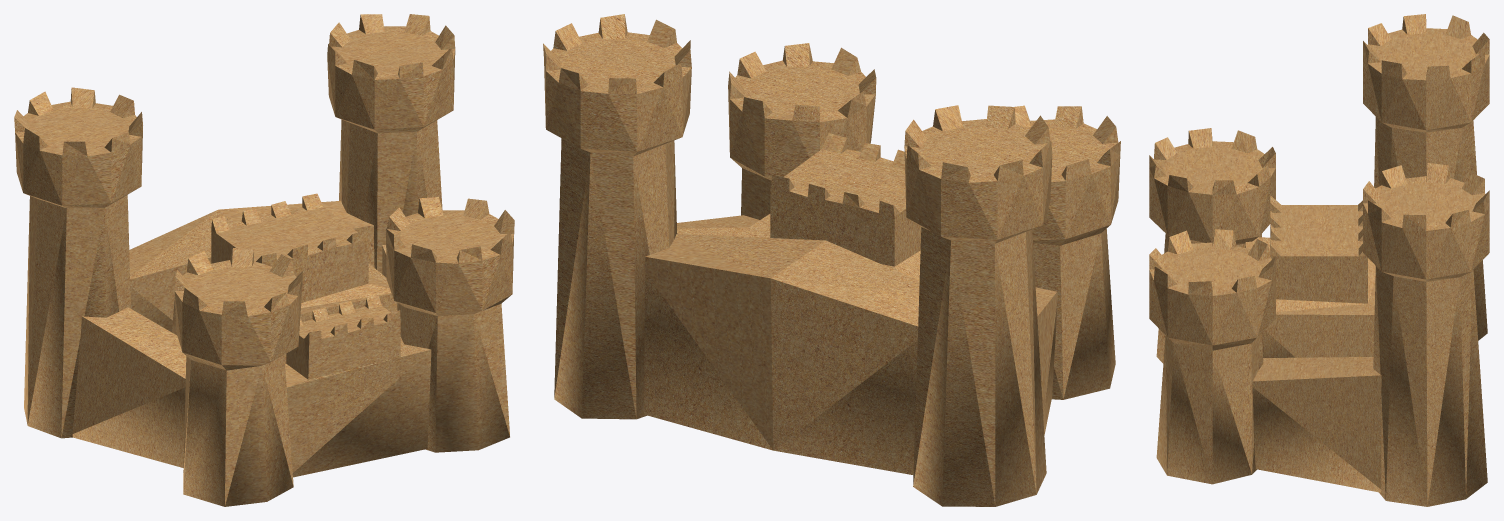
Rendered from Sand_Castle_Small.fbx.
3 renders of one model, left to right at view 1: azimuth 30°, elevation 25°; view 2: azimuth 150°, elevation 25°; view 3: azimuth 270°, elevation 25°, orthographic. The views are drawn at different scales.
Visible parts, largest first — view 1: castle_low; view 2: castle_low; view 3: castle_low.
Boxes of the visible parts, box(x1,y1,x2,y2) form: castle_low: box(14, 14, 514, 506); castle_low: box(543, 14, 1120, 506); castle_low: box(1149, 14, 1489, 506).
Size of the model in its own units: 77.32 by 52.41 by 54.87.
